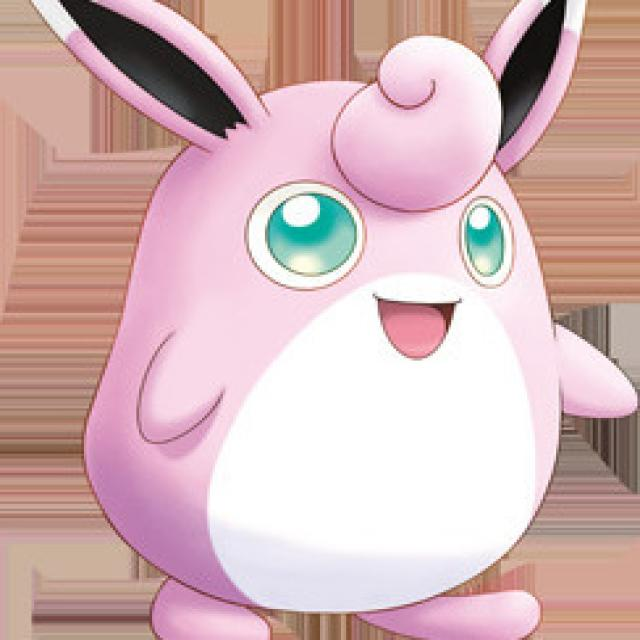Wigglytuff: (81, 44, 574, 640)
